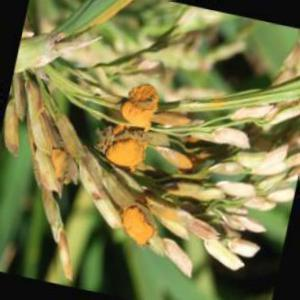Leaf_Scald: (126, 86, 164, 134), (99, 138, 153, 166), (53, 142, 78, 188), (126, 209, 151, 250)
